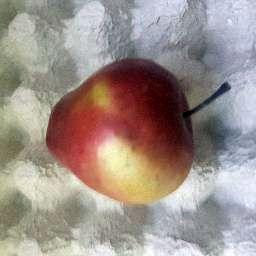apple: (33, 43, 253, 218)
